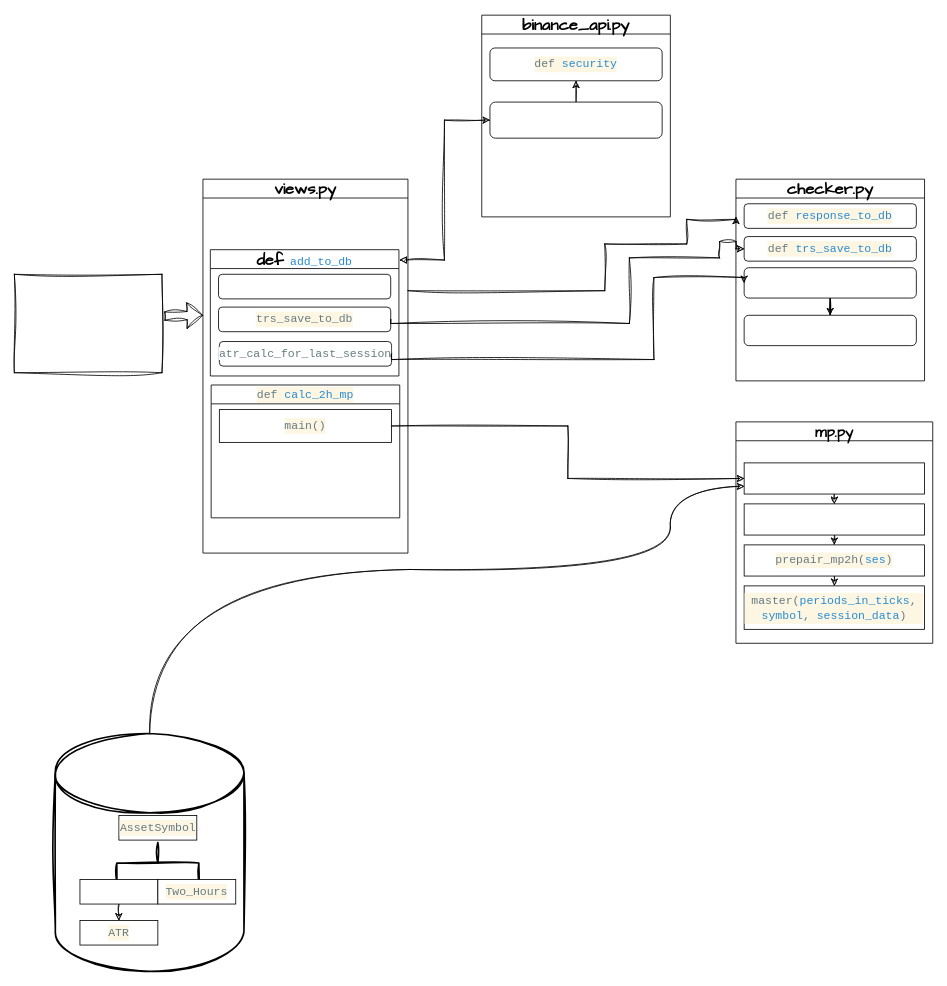
The diagram is 947 pixels wide and 986 high, and some of its shapes have lost their labels. The shapes that lost their labels are listed below. From the top down, each one's centre as x and y in pixels, then its label:
point 575,119: def data_from_binance
point 304,286: response_to_db
point 829,282: def atr_calc_for_last_session
point 88,323: unite it to one func to checker.py
point 829,330: atr_total_calc_once2
point 834,478: def main
point 834,519: func_sessions( asset )
point 118,891: DailyPrices
